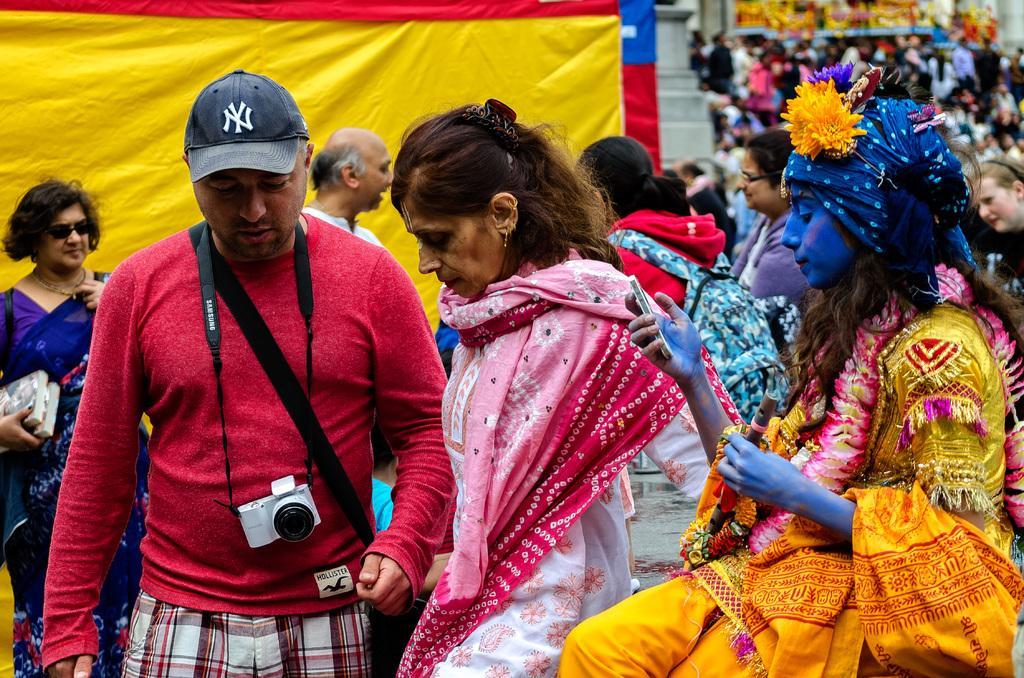Hat: (184, 67, 312, 185)
